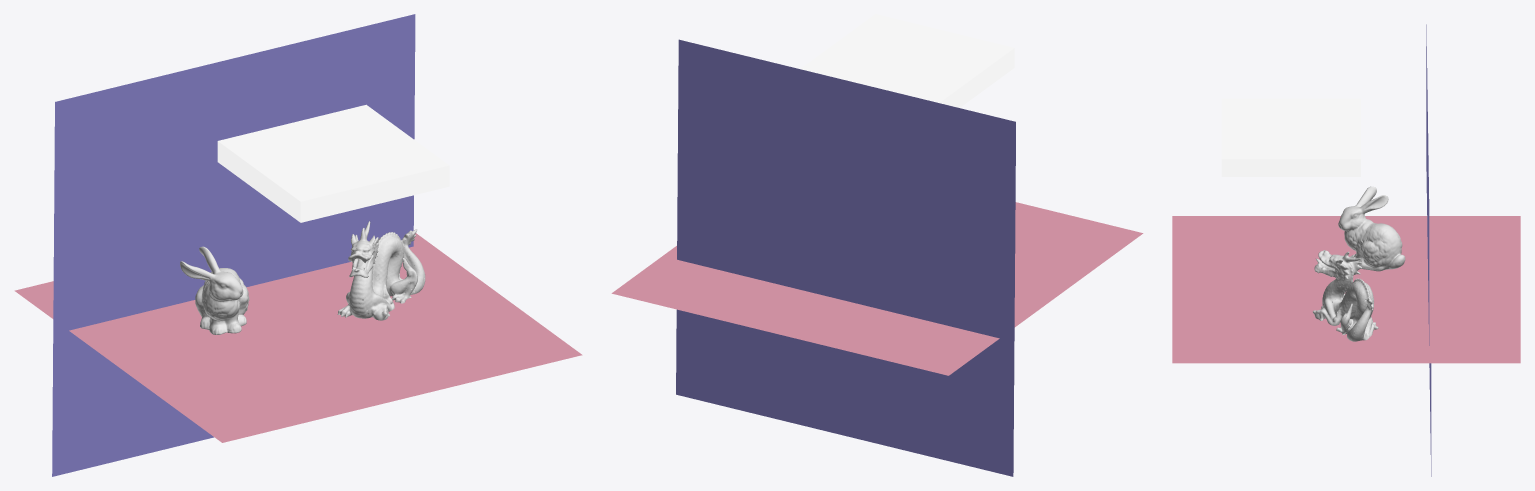
File: pathtracer_dragon.gltf
3 views of the same model, side by side, from view 1: azimuth 30°, elevation 25°; view 2: azimuth 150°, elevation 25°; view 3: azimuth 270°, elevation 25° (orthographic). The views are drawn at different scales.
Parts seen in each view (by area): view 1: Plane.002, Plane.001, Cube.002, dragon_vrip_res3, bun_zipper; view 2: Plane.002, Plane.001, Cube.002; view 3: Plane.001, Cube.002, dragon_vrip_res3, bun_zipper, Plane.002.
Part boxes in pixels (x1,y1,x2,y2): Plane.002: (52,14,415,476); Plane.001: (14,233,582,442); Cube.002: (217,104,449,222); dragon_vrip_res3: (337,221,425,320); bun_zipper: (180,246,249,334); Plane.002: (676,39,1015,476); Plane.001: (611,202,1143,375); Cube.002: (800,14,1014,107); Plane.001: (1172,216,1520,363); Cube.002: (1221,98,1360,176); dragon_vrip_res3: (1313,250,1378,341); bun_zipper: (1338,186,1405,271); Plane.002: (1426,24,1431,476).
Size of the model in its own units: 25.67 by 24.6 by 24.61.
